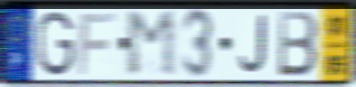3: (180, 5, 215, 83)
B: (276, 9, 320, 79)
F: (75, 11, 118, 78)
G: (35, 9, 76, 79)
J: (237, 13, 269, 75)
M: (124, 9, 179, 79)
